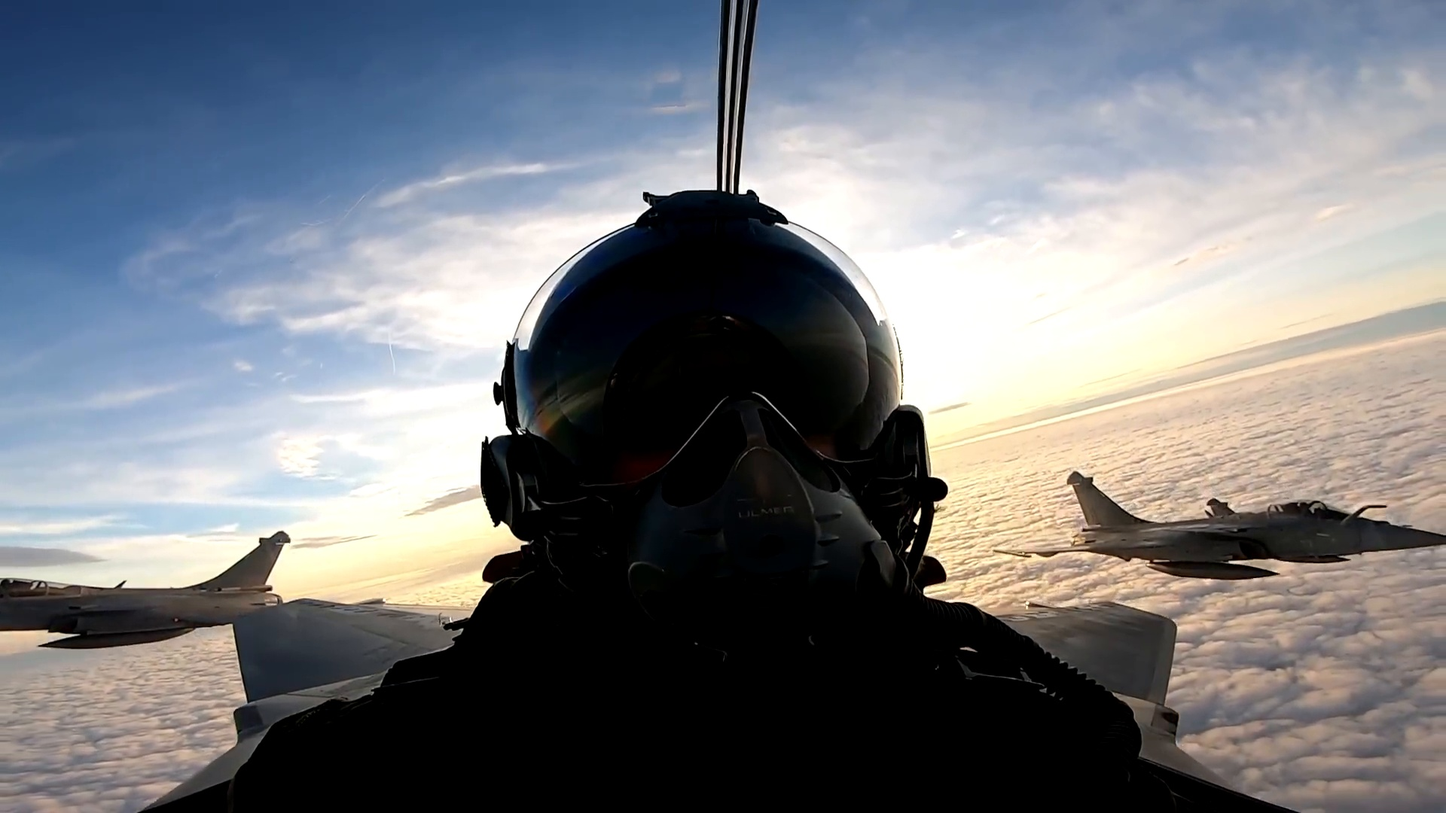Rafale: (989, 471, 1445, 579), (1, 530, 302, 650)
